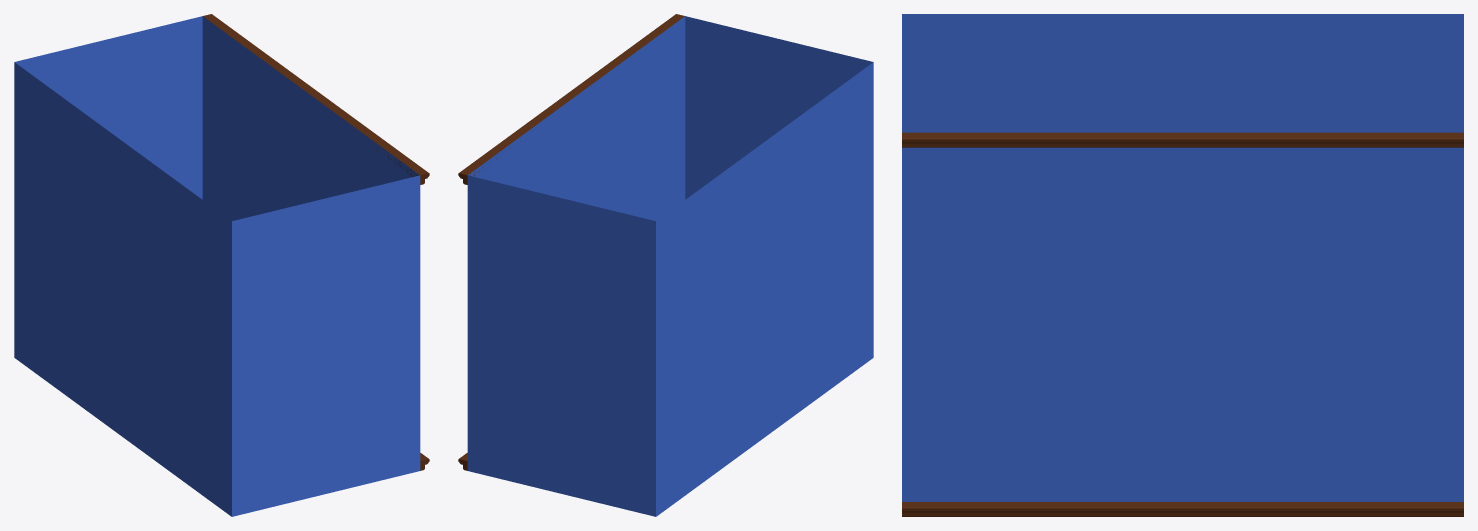
Rendered from Stucco top 8x4.fbx.
3 views of the same model, side by side, from view 1: azimuth 30°, elevation 25°; view 2: azimuth 150°, elevation 25°; view 3: azimuth 270°, elevation 25° (orthographic). The views are drawn at different scales.
Parts seen in each view (by area): view 1: Stucco top 8; view 2: Stucco top 8; view 3: Stucco top 8.
Part boxes in pixels (left/top/right/bottom): Stucco top 8: left=14, top=14, right=429, bottom=516; Stucco top 8: left=458, top=14, right=873, bottom=516; Stucco top 8: left=902, top=14, right=1463, bottom=516.
Size of the model in its own units: 420 by 600 by 800.
